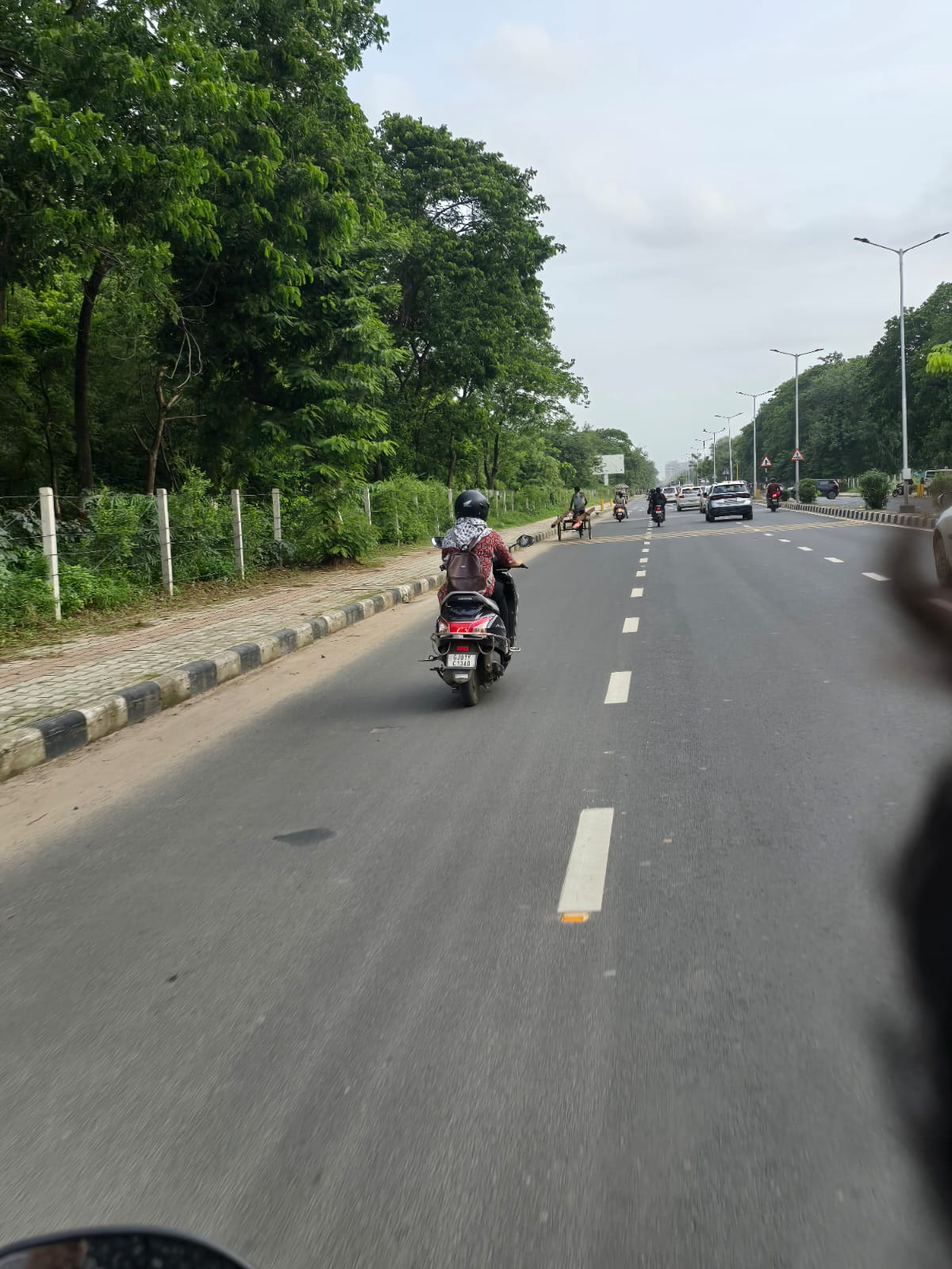BikeWithRider: (414, 481, 536, 711), (637, 473, 676, 539), (605, 473, 640, 528), (643, 484, 668, 528), (609, 485, 630, 522), (764, 477, 784, 513)
Helmet: (450, 485, 493, 523)
